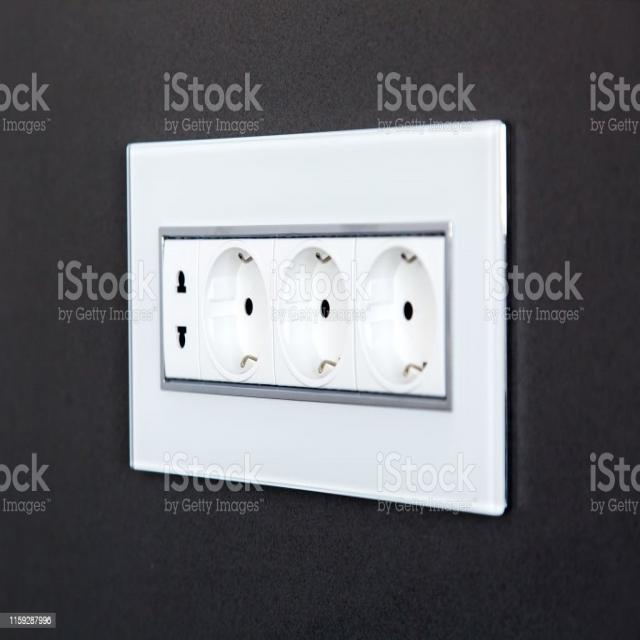typeb: (109, 106, 548, 596)
